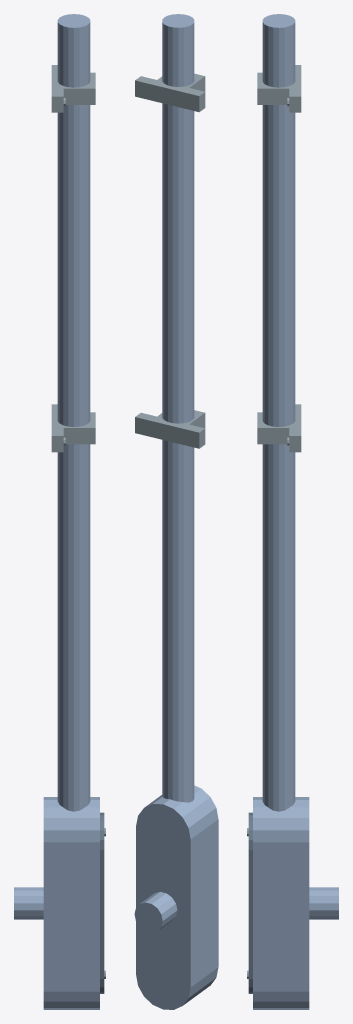
The model's file is conduit_lb_riser.obj.
3 renders of one model, left to right at view 1: azimuth 90°, elevation 25°; view 2: azimuth 150°, elevation 25°; view 3: azimuth 270°, elevation 25°, orthographic.
Bounding box in the file's own units: 0.1 × 1.45 × 0.1225.
